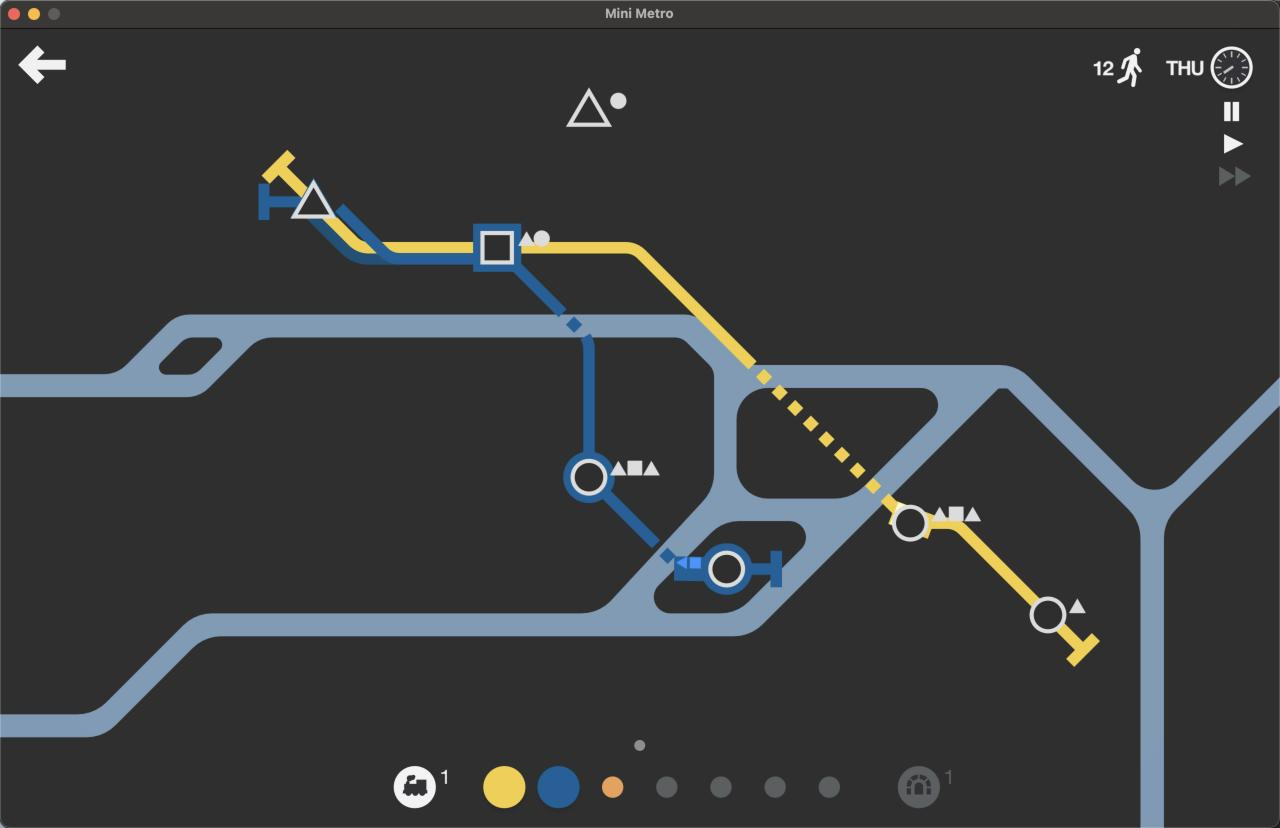CIRCLE: (563, 451, 616, 503), (704, 544, 748, 593), (889, 502, 931, 542), (1028, 595, 1068, 634)
SQUARE: (474, 224, 520, 267)
TRIANGLE: (291, 179, 336, 220)
TRIAngle: (565, 86, 615, 129)
